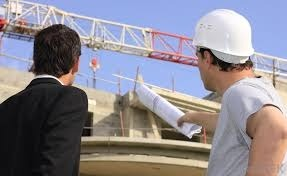helmet: (188, 7, 256, 59)
person with partial safety: (177, 7, 286, 175)
person without safety: (1, 22, 89, 175)
